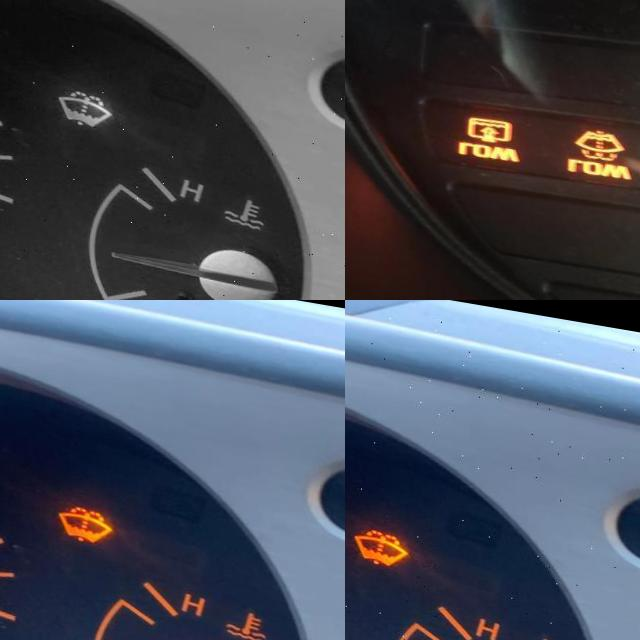High Engine Coolant Temperature: (228, 591, 270, 630)
Washer Fluid: (349, 509, 412, 562), (60, 73, 120, 125), (577, 112, 630, 152)
